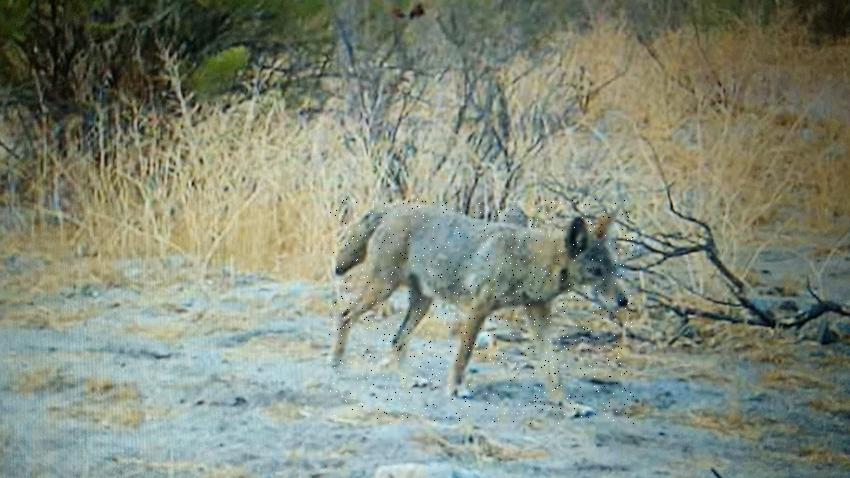Coyote: (329, 199, 635, 424)
